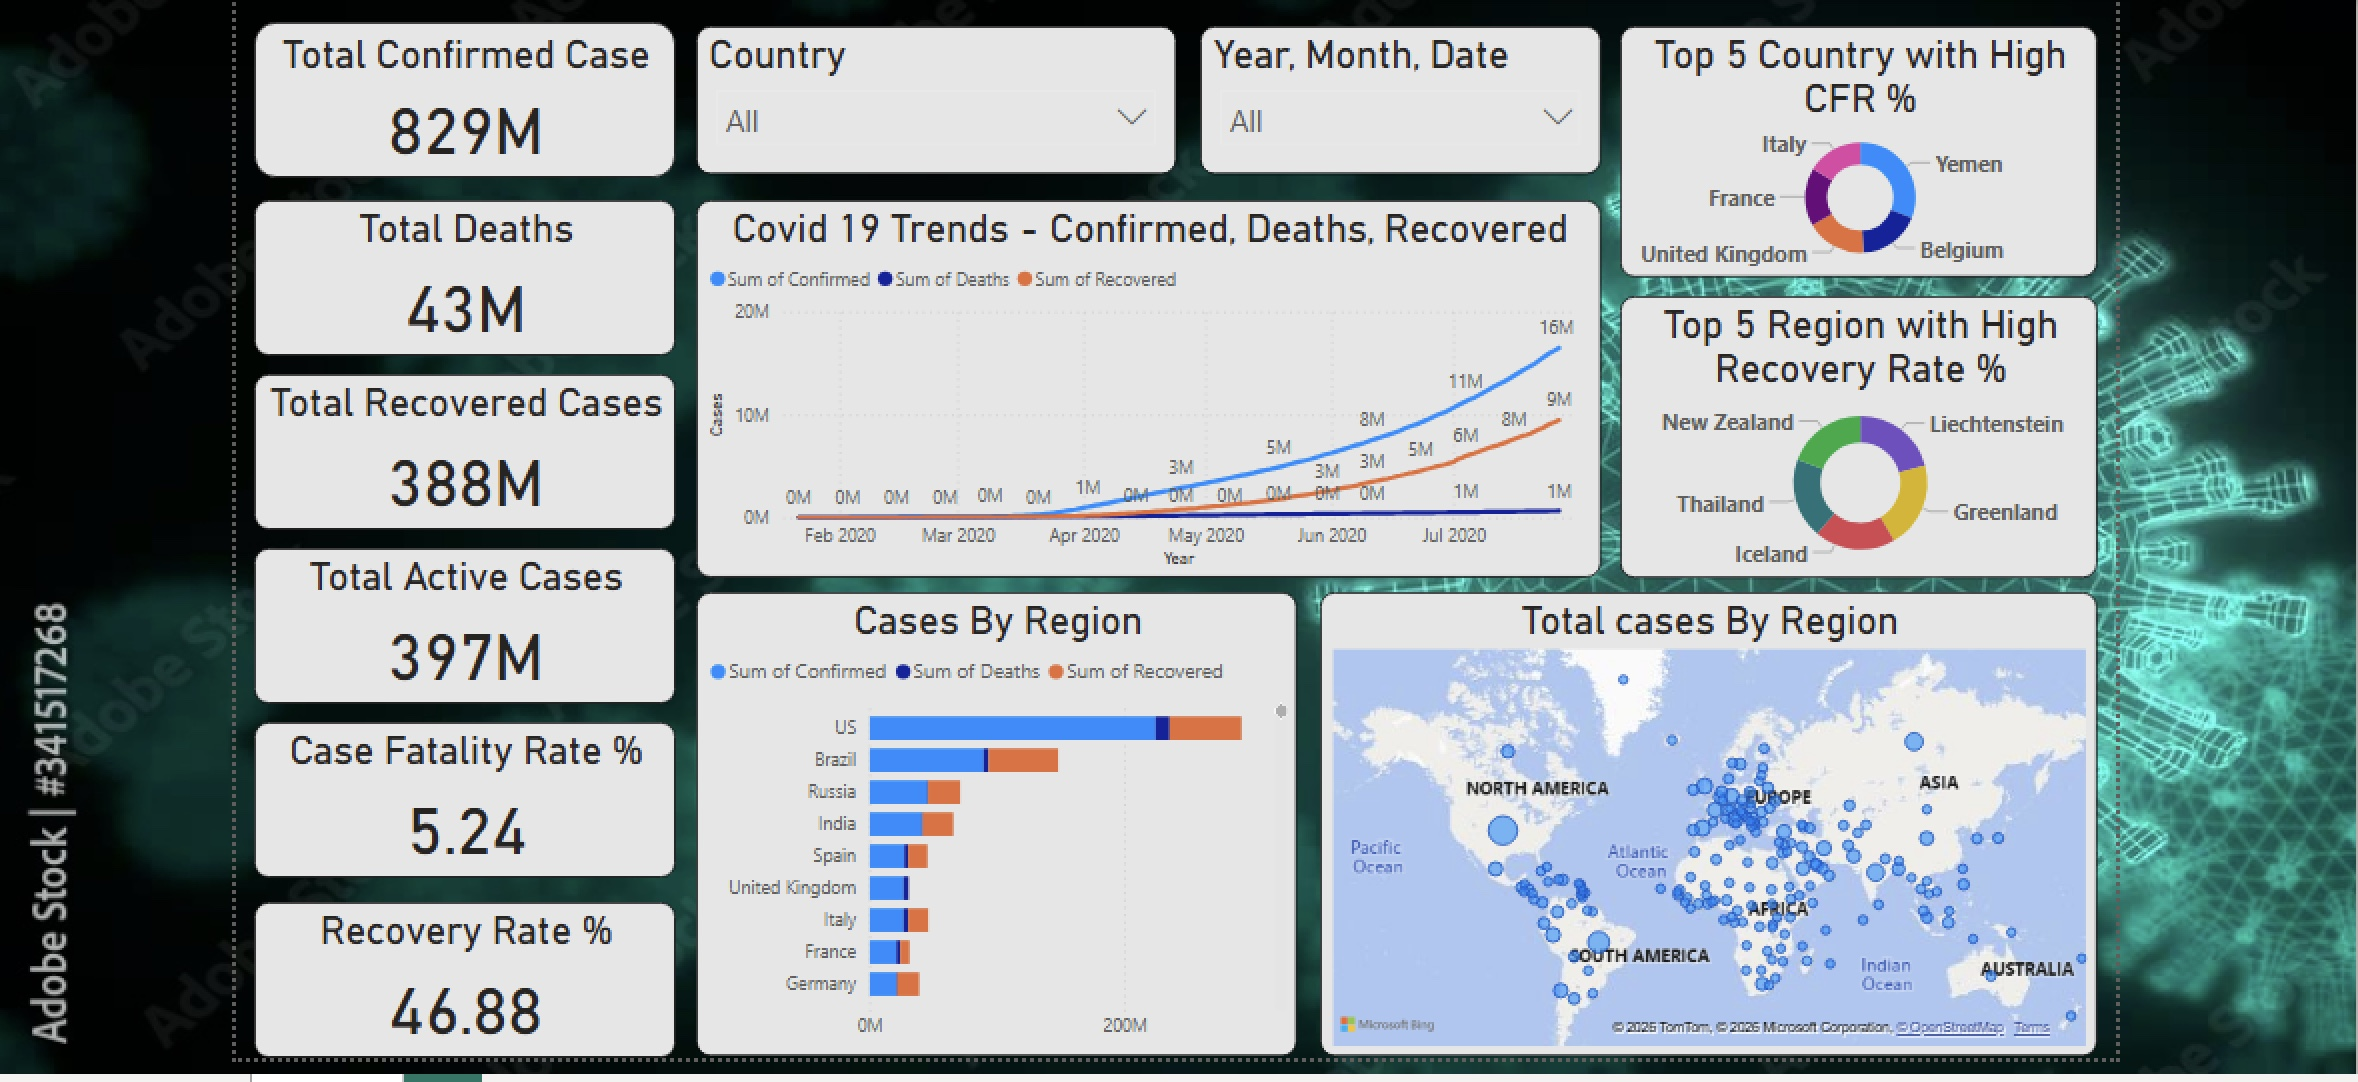

Layout of this report page (visuals, bound fields, positions):
{"tool":"powerbi","page":{"name":"Page 1","canvas":[1280,720],"ordinal":0},"visuals":[{"type":"card","title":"Total Confirmed Case","fields":{"Values":["full_grouped.Total Confirmed Cases"]},"box":[11.8,14.8,286.7,106.4],"z":0},{"type":"card","title":"Total Deaths","fields":{"Values":["full_grouped.Total Deaths"]},"box":[11.8,136,286.7,106.4],"z":1000},{"type":"card","title":"Total Recovered Cases","fields":{"Values":["full_grouped.Total Recovered"]},"box":[11.8,254.2,286.7,106.4],"z":2000},{"type":"card","title":"Total Active Cases","fields":{"Values":["full_grouped.Total Active Cases"]},"box":[11.8,372.5,286.7,106.4],"z":3000},{"type":"card","title":"Recovery Rate %","fields":{"Values":["full_grouped.Recovery Rate"]},"box":[11.8,613.4,286.7,106.4],"z":4000},{"type":"card","title":"Case Fatality Rate %","fields":{"Values":["full_grouped.Fatality Rate(CFR)"]},"box":[11.8,490.7,286.7,106.4],"z":5000},{"type":"slicer","title":"Country","fields":{"Values":["full_grouped.Country/Region"]},"box":[313.3,17.7,326.7,100.5],"z":6000},{"type":"slicer","title":"Year, Month, Date","fields":{"Values":["full_grouped.Date.Variation.Date Hierarchy.Year","full_grouped.Date.Variation.Date Hierarchy.Month","full_grouped.Date.Variation.Date Hierarchy.Day"]},"box":[656.3,17.7,273.4,100.5],"z":7000},{"type":"lineChart","title":"Covid 19 Trends - Confirmed, Deaths, Recovered","fields":{"Y":["Sum(full_grouped.Confirmed)","Sum(full_grouped.Deaths)","Sum(full_grouped.Recovered)"],"Category":["full_grouped.Date.Variation.Date Hierarchy.Year","full_grouped.Date.Variation.Date Hierarchy.Quarter","full_grouped.Date.Variation.Date Hierarchy.Month","full_grouped.Date.Variation.Date Hierarchy.Day"]},"box":[313.3,136,616.4,257.2],"z":8000},{"type":"barChart","title":"Cases By Region","fields":{"Category":["full_grouped.Country/Region"],"Y":["Sum(full_grouped.Confirmed)","Sum(full_grouped.Deaths)","Sum(full_grouped.Recovered)"]},"box":[313.3,403.5,409.4,316.3],"z":9000},{"type":"donutChart","title":"Top 5 Country with High CFR %","fields":{"Category":["full_grouped.Country/Region"],"Y":["full_grouped.Fatality Rate(CFR)"]},"box":[941.5,17.7,325.2,171.5],"z":10000},{"type":"donutChart","title":"Top 5 Region with High Recovery Rate %","fields":{"Category":["full_grouped.Country/Region"],"Y":["full_grouped.Recovery Rate"]},"box":[941.5,201,325.2,192.1],"z":11000},{"type":"map","title":"Total cases By Region","fields":{"Category":["full_grouped.Country/Region"],"Size":["full_grouped.Total Confirmed Cases"]},"box":[737.4,403.5,528.7,316.2],"z":12000}]}

Visuals, with their boxes in screenshot pixels (x1, y1, x2, y2):
"Total Confirmed Case" card: locate(245, 16, 669, 173)
"Total Deaths" card: locate(245, 195, 669, 353)
"Total Recovered Cases" card: locate(245, 370, 669, 528)
"Total Active Cases" card: locate(245, 545, 669, 703)
"Recovery Rate %" card: locate(245, 902, 669, 1059)
"Case Fatality Rate %" card: locate(245, 720, 669, 878)
"Country" slicer: locate(691, 20, 1175, 169)
"Year, Month, Date" slicer: locate(1199, 20, 1603, 169)
"Covid 19 Trends - Confirmed, Deaths, Recovered" lineChart: locate(691, 195, 1603, 576)
"Cases By Region" barChart: locate(691, 591, 1297, 1059)
"Top 5 Country with High CFR %" donutChart: locate(1621, 20, 2102, 274)
"Top 5 Region with High Recovery Rate %" donutChart: locate(1621, 291, 2102, 576)
"Total cases By Region" map: locate(1319, 591, 2101, 1059)
